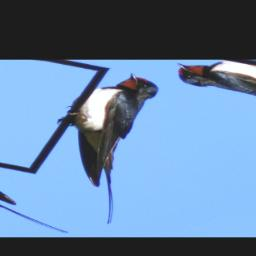Swallow: (0, 69, 256, 226)
